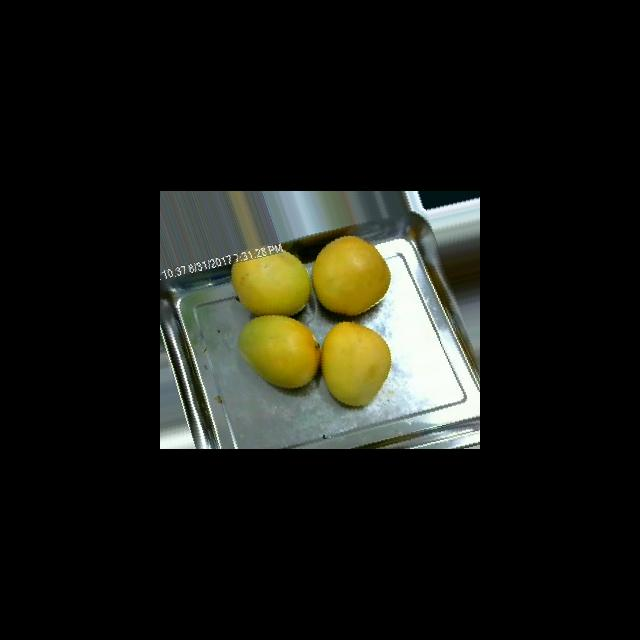mango: (312, 235, 391, 316), (237, 314, 320, 389), (320, 320, 391, 407), (230, 250, 310, 316)
